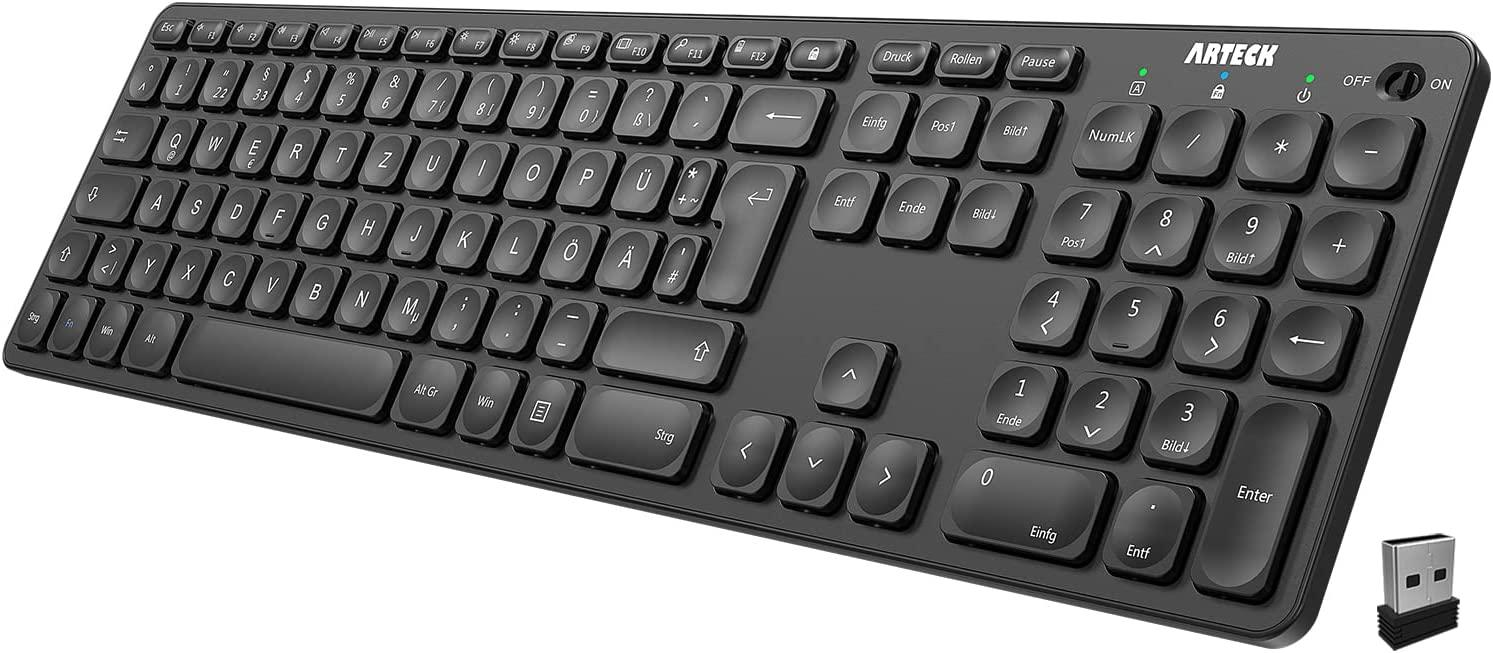0: (559, 72, 618, 132)
1: (161, 53, 209, 106)
2: (199, 56, 247, 109)
3: (239, 59, 287, 112)
4: (278, 58, 328, 111)
5: (322, 61, 369, 115)
6: (365, 63, 417, 119)
7: (411, 66, 460, 121)
8: (458, 67, 511, 126)
9: (508, 72, 567, 132)
a: (136, 173, 183, 226)
accent: (670, 78, 730, 141)
ae: (594, 226, 658, 291)
alt-left: (120, 307, 187, 373)
altgr-right: (392, 351, 471, 429)
b: (289, 259, 346, 319)
c: (205, 248, 259, 305)
caret: (126, 51, 167, 99)
comma: (430, 283, 493, 347)
d: (215, 182, 259, 237)
del: (730, 80, 827, 149)
e: (230, 121, 278, 176)
enter: (697, 155, 807, 304)
f: (257, 187, 300, 243)
g: (298, 190, 350, 249)
h: (342, 196, 394, 254)
hash: (651, 233, 705, 298)
i: (454, 134, 508, 196)
j: (391, 202, 449, 260)
k: (436, 207, 495, 268)
keyboard: (2, 1, 1491, 648)
l: (487, 212, 549, 276)
less: (90, 233, 136, 288)
m: (382, 271, 443, 336)
minus: (536, 295, 602, 361)
n: (335, 265, 393, 327)
o: (504, 138, 561, 202)
oe: (540, 218, 604, 283)
p: (558, 144, 614, 208)
plus: (667, 153, 717, 218)
point: (482, 288, 545, 352)
q: (153, 112, 200, 165)
r: (272, 122, 320, 177)
s: (175, 177, 220, 232)
shift-left: (44, 227, 97, 278)
shift-lock: (69, 169, 146, 224)
shift-right: (596, 304, 738, 385)
space: (176, 312, 403, 415)
ss: (612, 75, 678, 138)
strg-left: (12, 287, 65, 347)
strg-right: (564, 382, 714, 477)
t: (315, 126, 366, 180)
tab: (98, 109, 155, 161)
u: (406, 131, 461, 190)
ue: (611, 149, 671, 214)
v: (247, 253, 299, 312)
w: (193, 115, 237, 168)
x: (166, 243, 213, 298)
y: (127, 237, 173, 292)
z: (359, 128, 410, 186)
